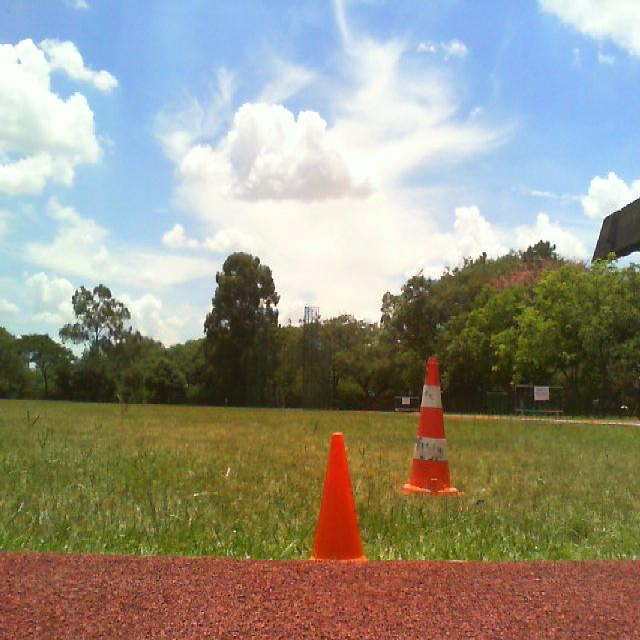cone: (302, 429, 369, 561), (394, 358, 456, 492)
